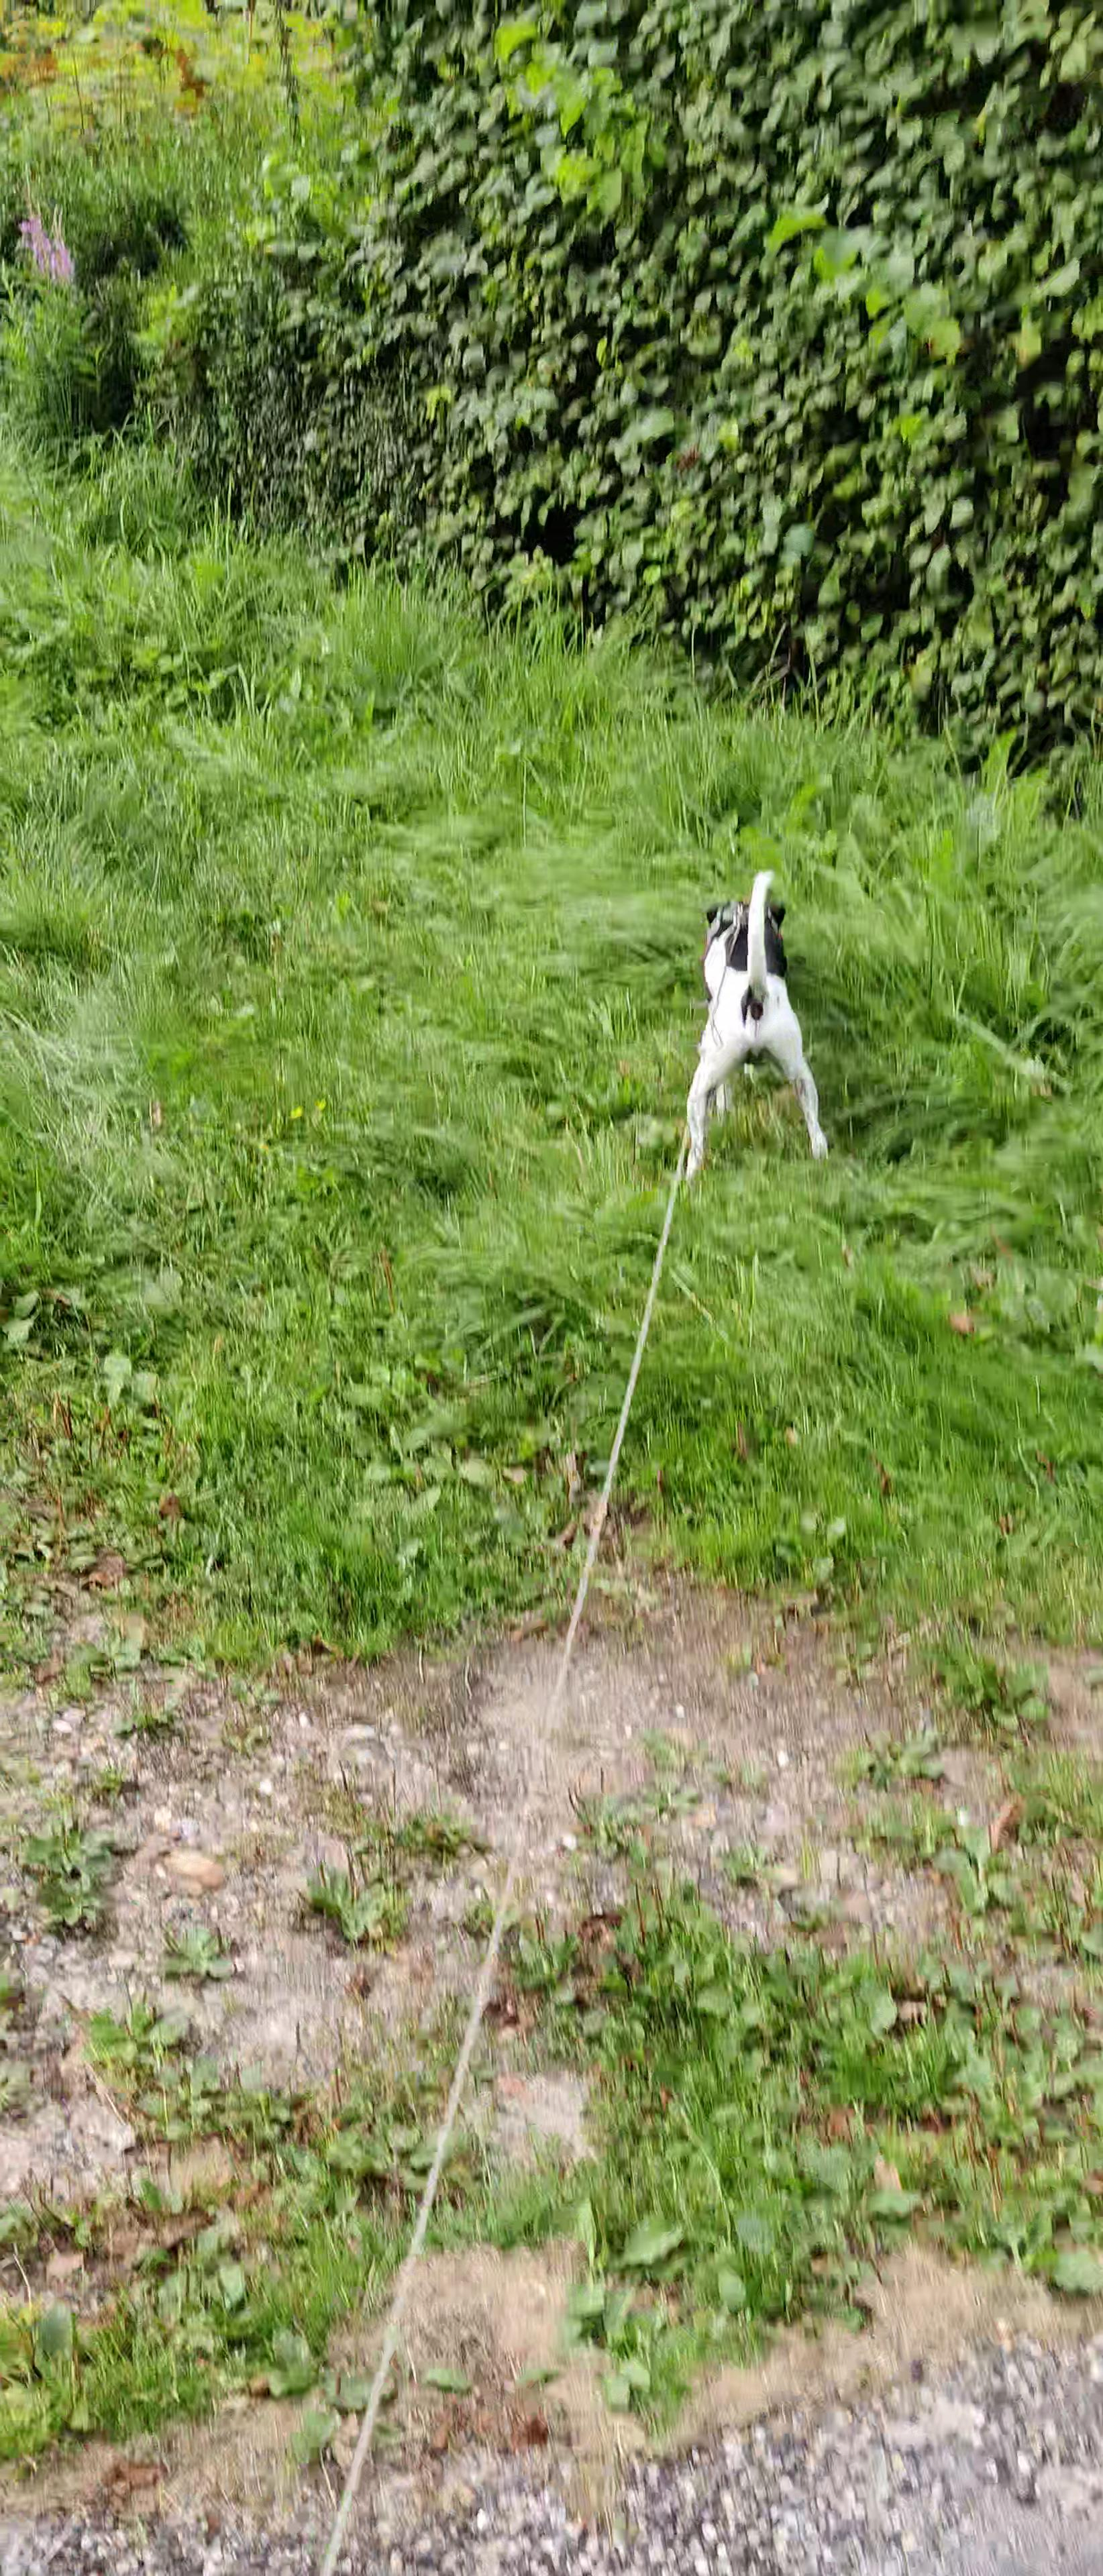Dog: (656, 844, 851, 1193)
